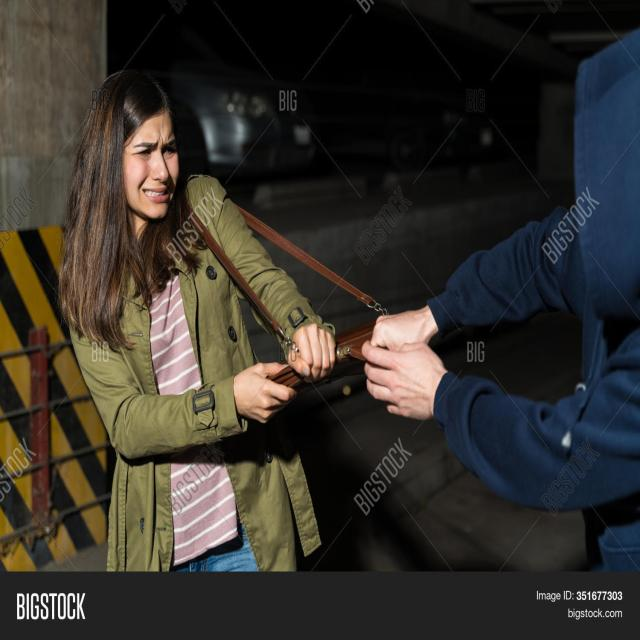Theft_Snatching: (147, 126, 593, 554)
